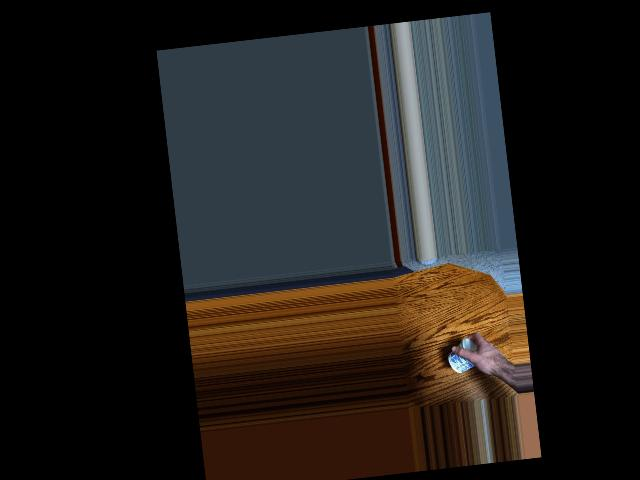cotage: (448, 336, 485, 379)
